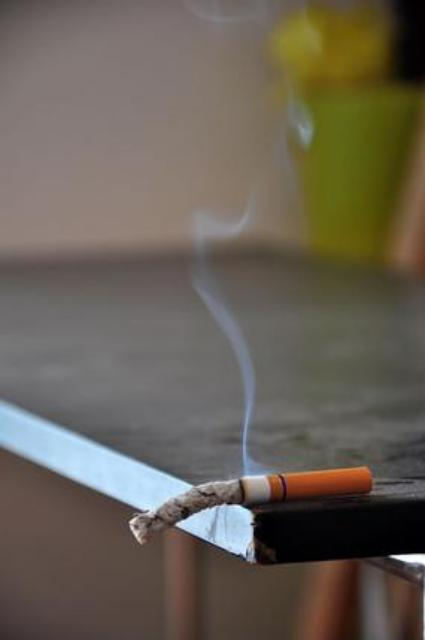Cigarette: (130, 466, 374, 544)
